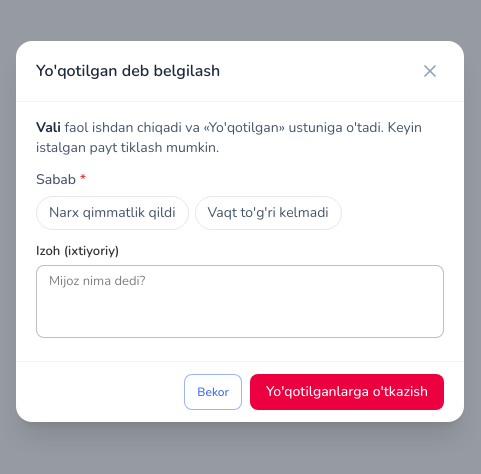
LeadLostModal — sabab MAJBURIY › server rad etsa — sabab OYNADA ko'rinadi (jimgina yutilmaydi)
Click the button "Narx qimmatlik qildi".
click(112, 212)  # box [36, 196, 188, 230]
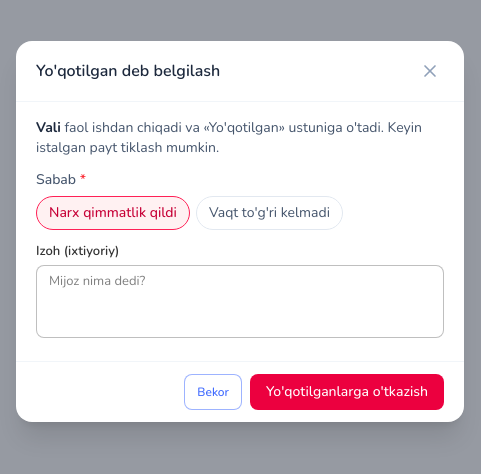
Click the button "Yo'qotilganlarga o'tkazish".
click(347, 392)  # box [250, 374, 444, 410]
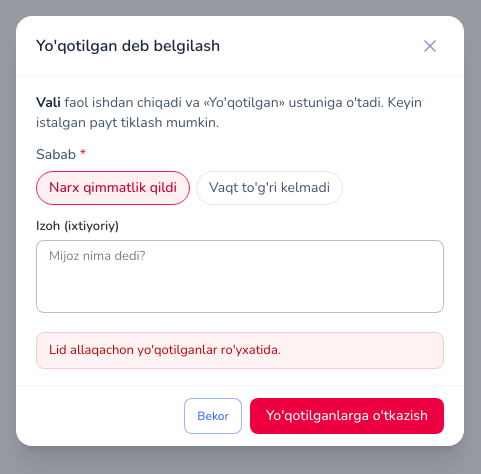
Now the text "allaqachon yo'qotilganlar ro'yxatida" is shown, box [49, 341, 281, 359]
